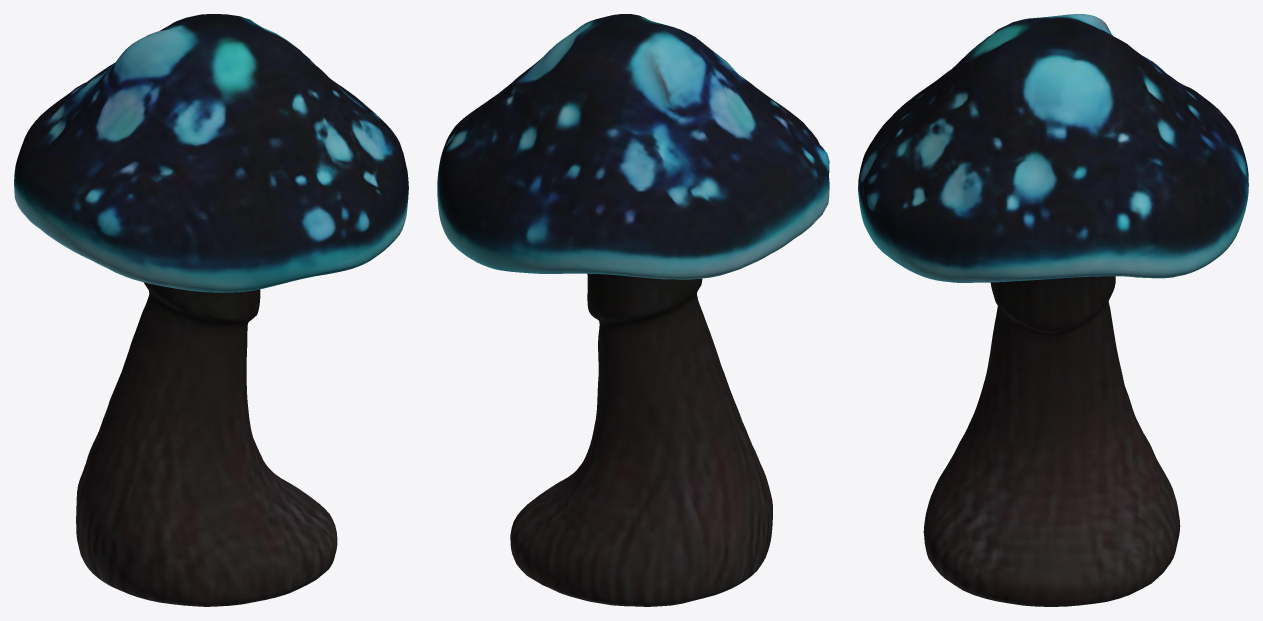
3 renders of one model, left to right at view 1: azimuth 30°, elevation 25°; view 2: azimuth 150°, elevation 25°; view 3: azimuth 270°, elevation 25°, orthographic.
Visible parts, largest first — view 1: mesh_base_material_0; view 2: mesh_base_material_0; view 3: mesh_base_material_0.
Boxes of the visible parts, left/top/right/bottom form: mesh_base_material_0: left=14, top=14, right=408, bottom=606; mesh_base_material_0: left=437, top=14, right=829, bottom=606; mesh_base_material_0: left=858, top=14, right=1248, bottom=606.
Size of the model in its own units: 0.6691 by 0.9995 by 0.6627.
Materials: 1 (1 with a texture image).
